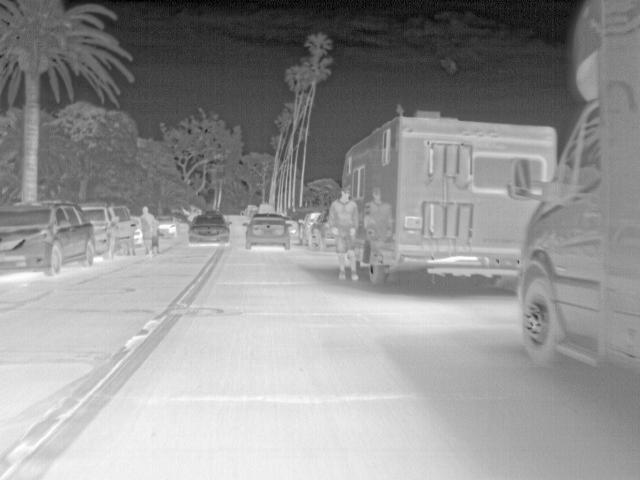car: (0, 200, 94, 278), (77, 202, 137, 260), (245, 213, 291, 250), (187, 212, 231, 246), (310, 206, 331, 250), (300, 211, 319, 245), (158, 215, 182, 238), (287, 220, 303, 246)
person: (329, 184, 361, 282), (139, 205, 158, 256)
